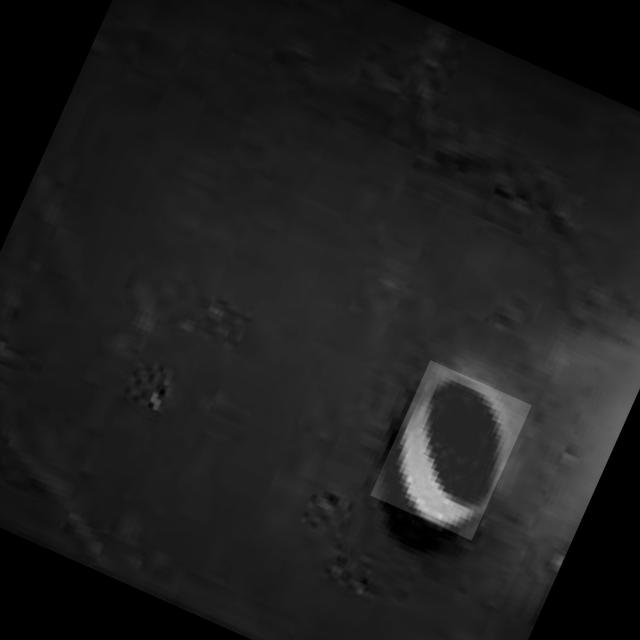crater: (370, 360, 531, 540)
